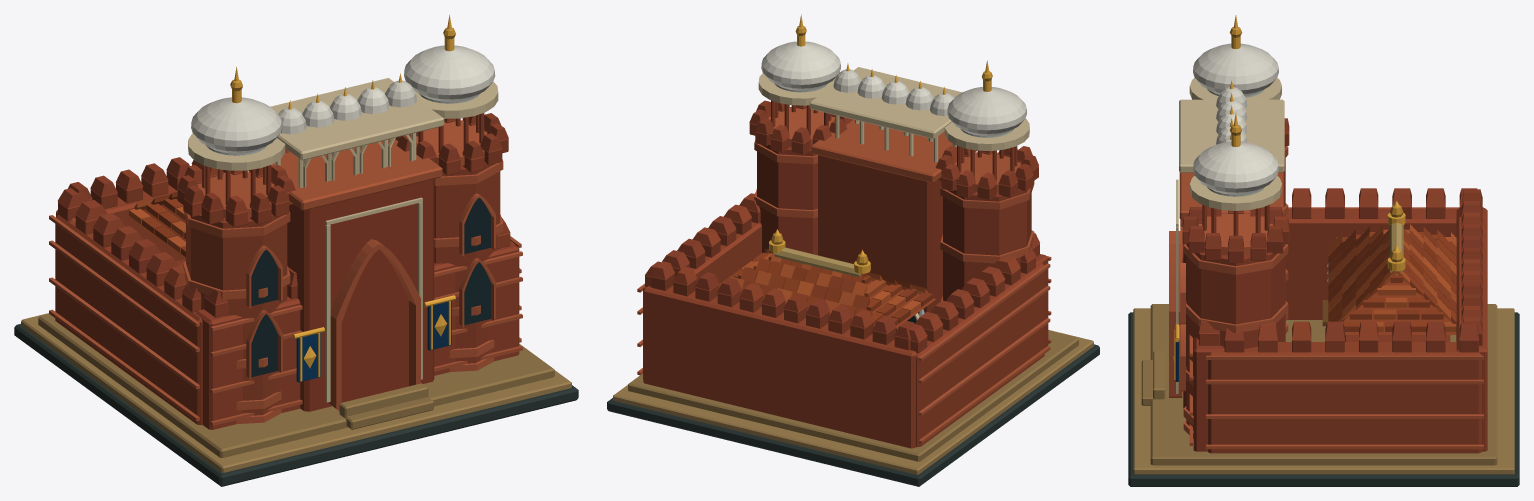
Rendered from barracks.glb.
3 views of the same model, side by side, from view 1: azimuth 30°, elevation 25°; view 2: azimuth 150°, elevation 25°; view 3: azimuth 270°, elevation 25° (orthographic). The views are drawn at different scales.
Visible parts, largest first — view 1: barracks_structure, barracks_brass; view 2: barracks_structure, barracks_brass; view 3: barracks_structure, barracks_brass.
Boxes of the visible parts, bbox=[...] form: barracks_structure: bbox=[14, 27, 578, 486]; barracks_brass: bbox=[232, 15, 455, 381]; barracks_structure: bbox=[607, 26, 1099, 486]; barracks_brass: bbox=[769, 14, 991, 273]; barracks_structure: bbox=[1128, 27, 1519, 486]; barracks_brass: bbox=[1173, 15, 1405, 379].
Bounding box in the file's own units: 5.6 × 5.41 × 5.6.
